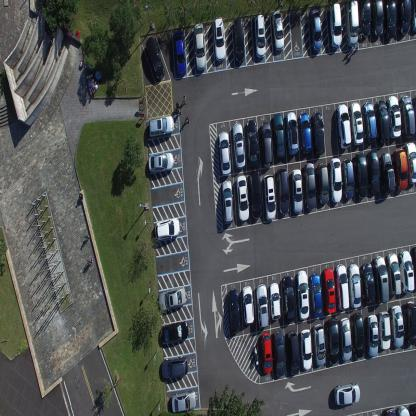car: (145, 36, 165, 81), (160, 319, 190, 345), (344, 0, 360, 48), (373, 254, 389, 302), (336, 102, 352, 149), (348, 100, 364, 146), (158, 285, 186, 311), (400, 95, 416, 140), (379, 151, 395, 196), (335, 263, 350, 311), (296, 269, 310, 320), (399, 249, 415, 293), (245, 119, 259, 169), (282, 274, 296, 323), (386, 252, 401, 297), (161, 354, 188, 379), (392, 148, 408, 190), (172, 29, 186, 77), (276, 166, 290, 214), (262, 173, 276, 221), (326, 317, 340, 365), (375, 100, 390, 144), (212, 15, 226, 62), (272, 113, 286, 160), (366, 148, 380, 195), (351, 312, 365, 359), (155, 216, 180, 242), (328, 3, 342, 49), (311, 110, 325, 156), (232, 122, 246, 168), (322, 268, 336, 314), (361, 102, 377, 142), (303, 161, 316, 210), (249, 170, 262, 219), (387, 94, 401, 139), (308, 8, 322, 53), (286, 330, 300, 375), (148, 114, 174, 138), (309, 274, 323, 318), (390, 304, 404, 348), (383, 0, 398, 41), (260, 121, 273, 168), (236, 174, 249, 221), (194, 22, 206, 72), (256, 283, 269, 329), (227, 288, 240, 334), (171, 390, 197, 413), (339, 316, 352, 362), (334, 382, 360, 405), (298, 112, 312, 154), (361, 262, 375, 304), (312, 324, 326, 366), (253, 14, 266, 59), (218, 130, 231, 175), (329, 157, 342, 202), (348, 263, 361, 308), (403, 301, 416, 346), (233, 16, 245, 64), (273, 329, 285, 377), (148, 152, 174, 174), (286, 110, 298, 156), (355, 152, 367, 198), (316, 162, 329, 204), (397, 0, 412, 36), (290, 168, 302, 213), (221, 179, 233, 224), (359, 0, 372, 41), (341, 158, 354, 199), (272, 8, 284, 52), (404, 142, 416, 184), (261, 332, 273, 374), (366, 314, 378, 356), (371, 0, 384, 38), (300, 329, 312, 370), (242, 284, 254, 324), (378, 311, 390, 350), (270, 282, 281, 321), (410, 0, 416, 33), (412, 246, 416, 289), (397, 405, 410, 415), (384, 407, 397, 415), (410, 403, 416, 415)
